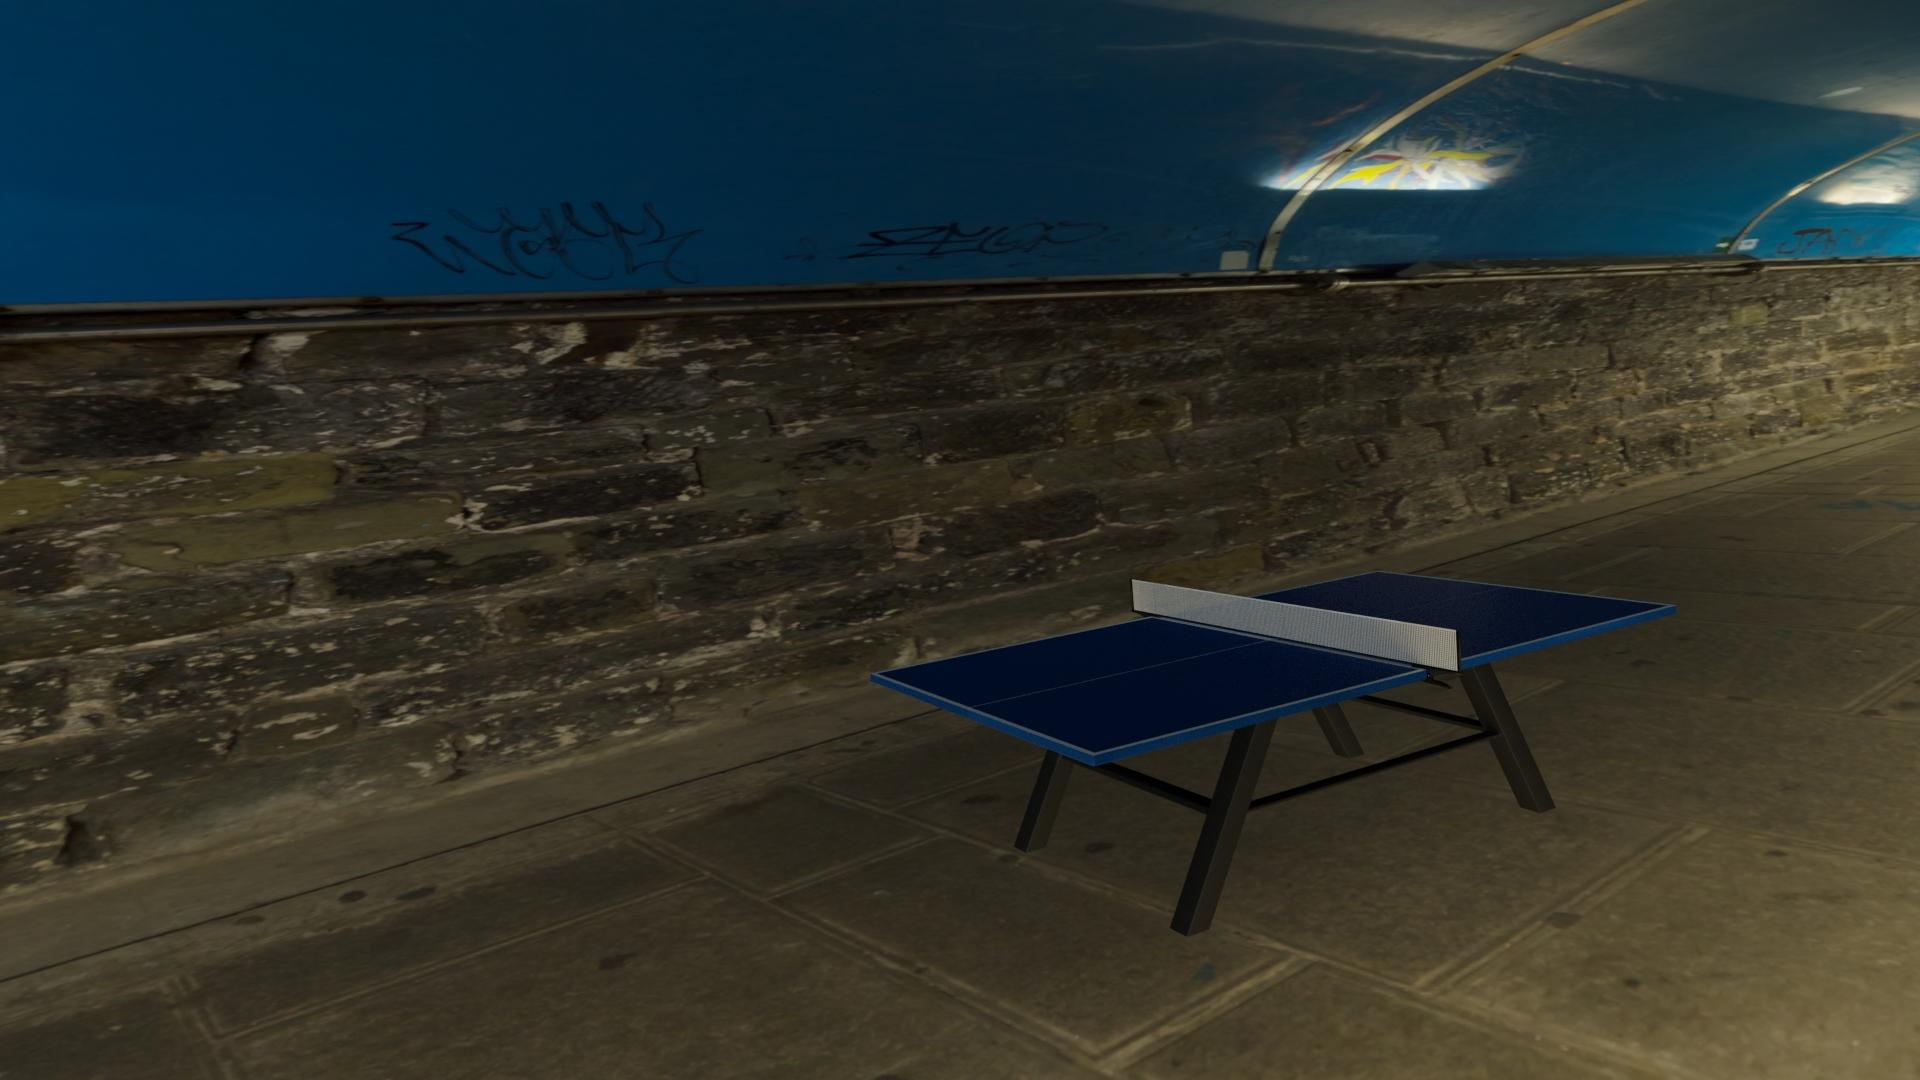table: (877, 572, 1668, 753)
